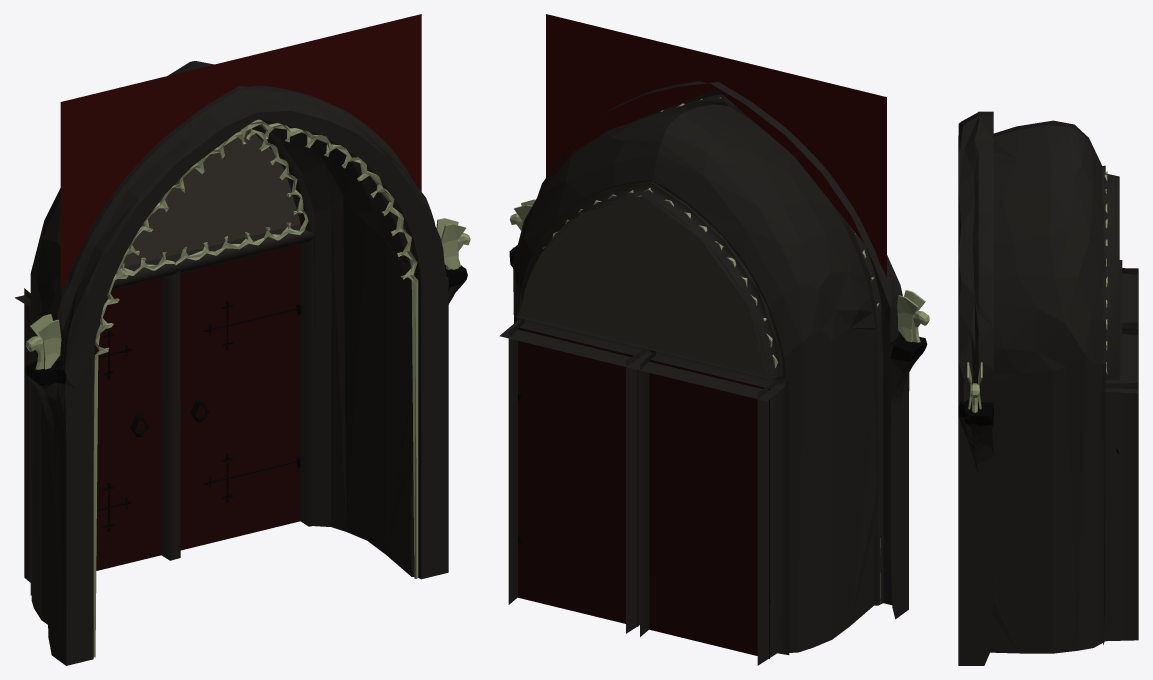
File: Doorway.obj
3 renders of one model, left to right at view 1: azimuth 30°, elevation 25°; view 2: azimuth 150°, elevation 25°; view 3: azimuth 270°, elevation 25°, orthographic. The views are drawn at different scales.
Parts seen in each view (by area): view 1: Gate_Low_Torus.002; view 2: Gate_Low_Torus.002; view 3: Gate_Low_Torus.002.
Boxes of the visible parts, left/top/right/bottom form: Gate_Low_Torus.002: left=15, top=14, right=470, bottom=665; Gate_Low_Torus.002: left=499, top=14, right=929, bottom=665; Gate_Low_Torus.002: left=958, top=111, right=1138, bottom=665.
Bounding box in the file's own units: 2.65 × 3.15 × 1.05.
